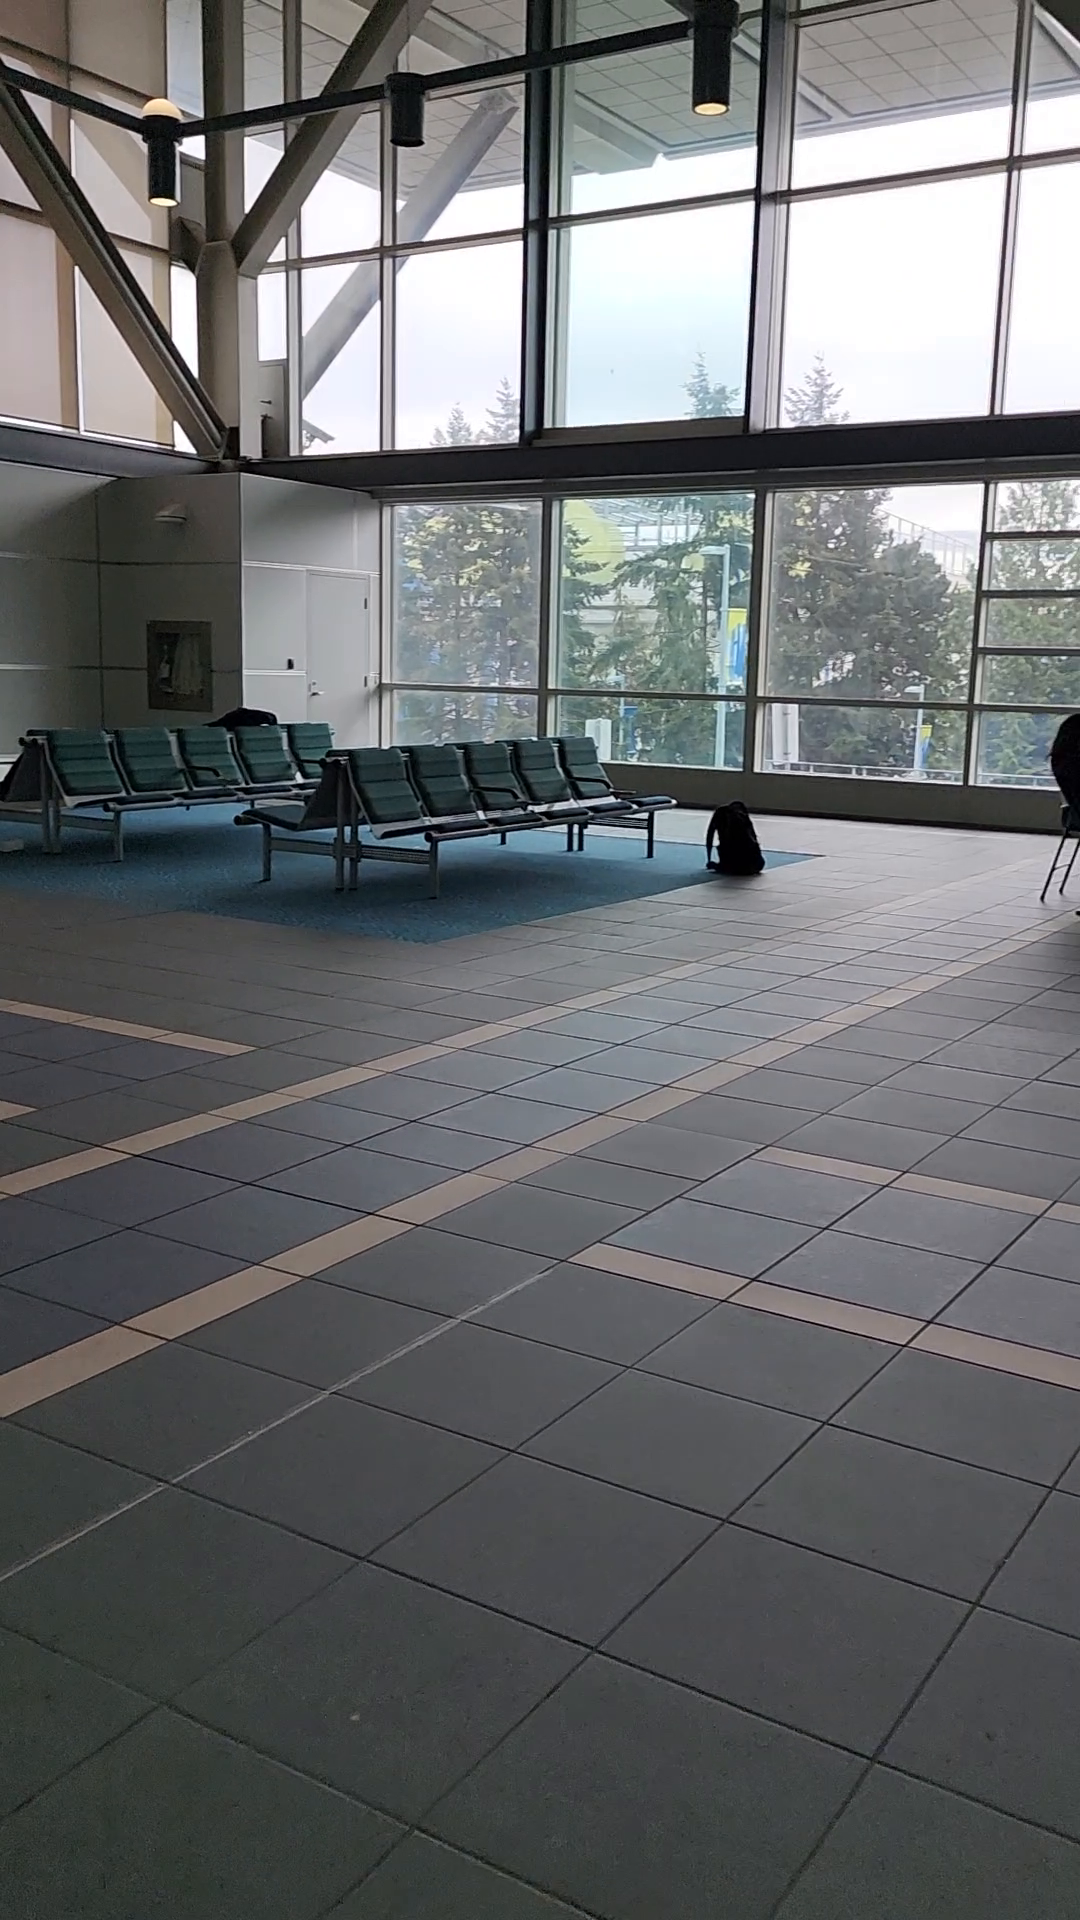Stain: (1, 1269, 571, 1596), (345, 1684, 368, 1754)
